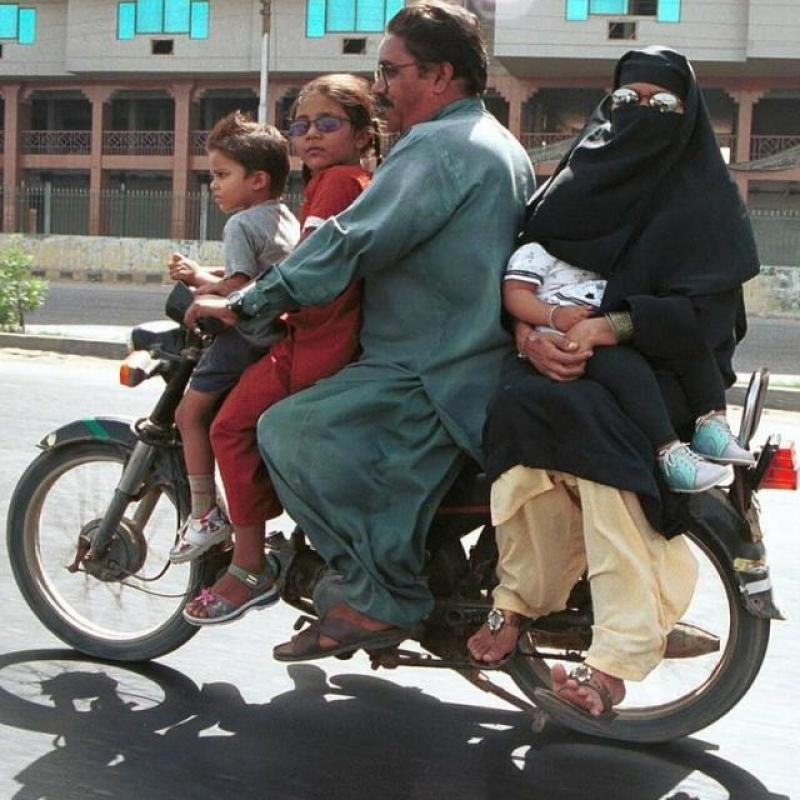nohelmet: (562, 32, 722, 177), (364, 0, 506, 159)
